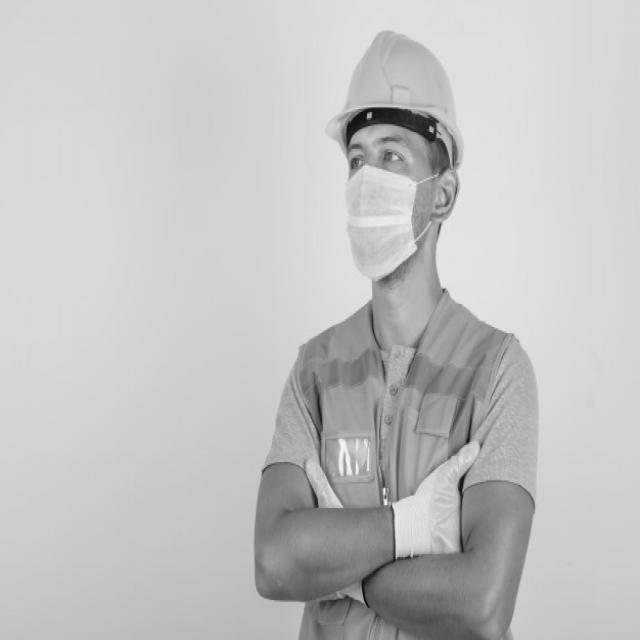safety_helmet: (322, 31, 462, 169)
